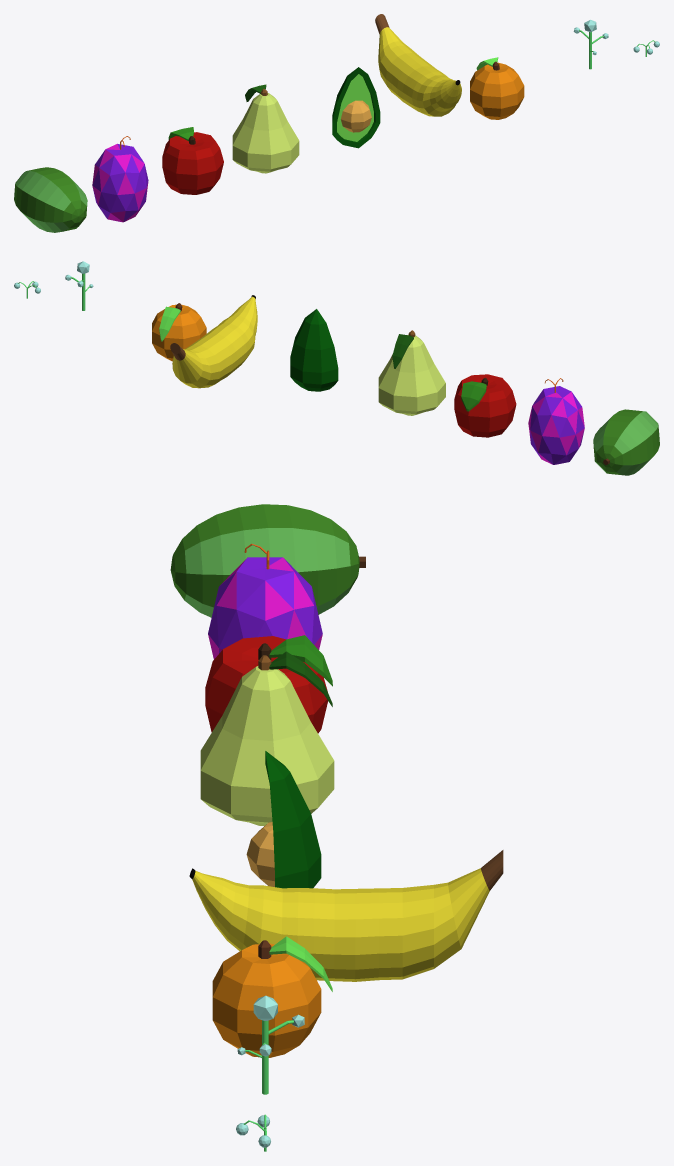
File: fruits.fbx
3 renders of one model, top to bottom at view 1: azimuth 30°, elevation 25°; view 2: azimuth 150°, elevation 25°; view 3: azimuth 270°, elevation 25°, orthographic. The views are drawn at different scales.
Parts seen in each view (by area): view 1: Cylinder, Sphere.001, Sphere.004, Icosphere, Sphere.003, Sphere.002, Sphere, Cylinder.004; view 2: Cylinder, Sphere.001, Icosphere, Sphere.004, Sphere.003, Sphere.002, Sphere, Cylinder.004; view 3: Cylinder, Sphere.001, Sphere.004, Sphere, Icosphere, Sphere.002, Sphere.003, Cylinder.004.
Part boxes in pixels (left/top/right/bottom): Cylinder: left=375, top=14, right=461, bottom=116; Sphere.001: left=232, top=84, right=299, bottom=173; Sphere.004: left=14, top=167, right=87, bottom=232; Icosphere: left=92, top=136, right=148, bottom=222; Sphere.003: left=162, top=127, right=223, bottom=194; Sphere.002: left=332, top=67, right=380, bottom=148; Sphere: left=470, top=57, right=524, bottom=119; Cylinder.004: left=573, top=19, right=608, bottom=69; Cylinder: left=170, top=295, right=257, bottom=388; Sphere.001: left=378, top=330, right=445, bottom=415; Icosphere: left=528, top=378, right=584, bottom=464; Sphere.004: left=593, top=409, right=659, bottom=475; Sphere.003: left=454, top=374, right=516, bottom=437; Sphere.002: left=290, top=309, right=338, bottom=391; Sphere: left=152, top=303, right=206, bottom=361; Cylinder.004: left=65, top=261, right=93, bottom=310; Cylinder: left=189, top=850, right=503, bottom=981; Sphere.001: left=200, top=651, right=334, bottom=825; Sphere.004: left=170, top=504, right=365, bottom=617; Sphere: left=212, top=936, right=332, bottom=1057; Icosphere: left=208, top=543, right=322, bottom=659; Sphere.002: left=246, top=751, right=321, bottom=888; Sphere.003: left=205, top=635, right=332, bottom=733; Cylinder.004: left=237, top=995, right=304, bottom=1094.
Bounding box in the file's own units: 25.48 × 3.76 × 5.79.
